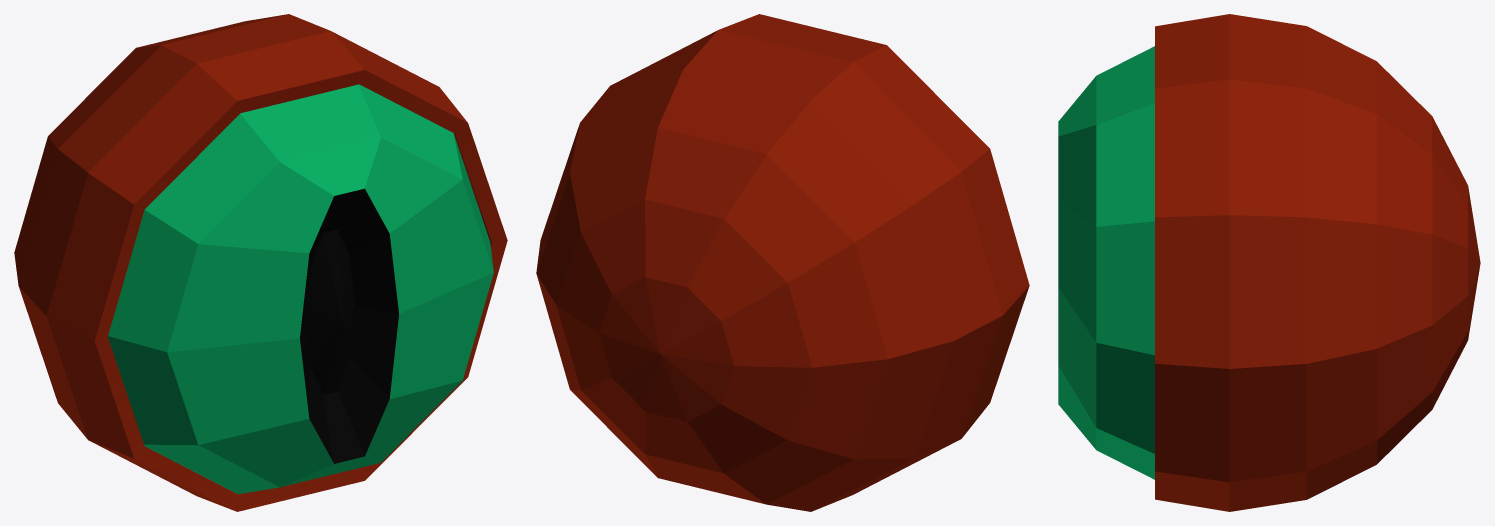
File: NewtEye.fbx
3 views of the same model, side by side, from view 1: azimuth 30°, elevation 25°; view 2: azimuth 150°, elevation 25°; view 3: azimuth 270°, elevation 25° (orthographic).
Visible parts, largest first — view 1: Eye_GEO, Eyelid_GEO; view 2: Eyelid_GEO; view 3: Eyelid_GEO, Eye_GEO.
Part boxes in pixels (left/top/right/bottom): Eye_GEO: left=108, top=84, right=493, bottom=494; Eyelid_GEO: left=14, top=14, right=507, bottom=511; Eyelid_GEO: left=536, top=14, right=1029, bottom=511; Eyelid_GEO: left=1155, top=14, right=1480, bottom=511; Eye_GEO: left=1058, top=46, right=1154, bottom=479.
Size of the model in its own units: 2.15 by 2.05 by 1.81.
